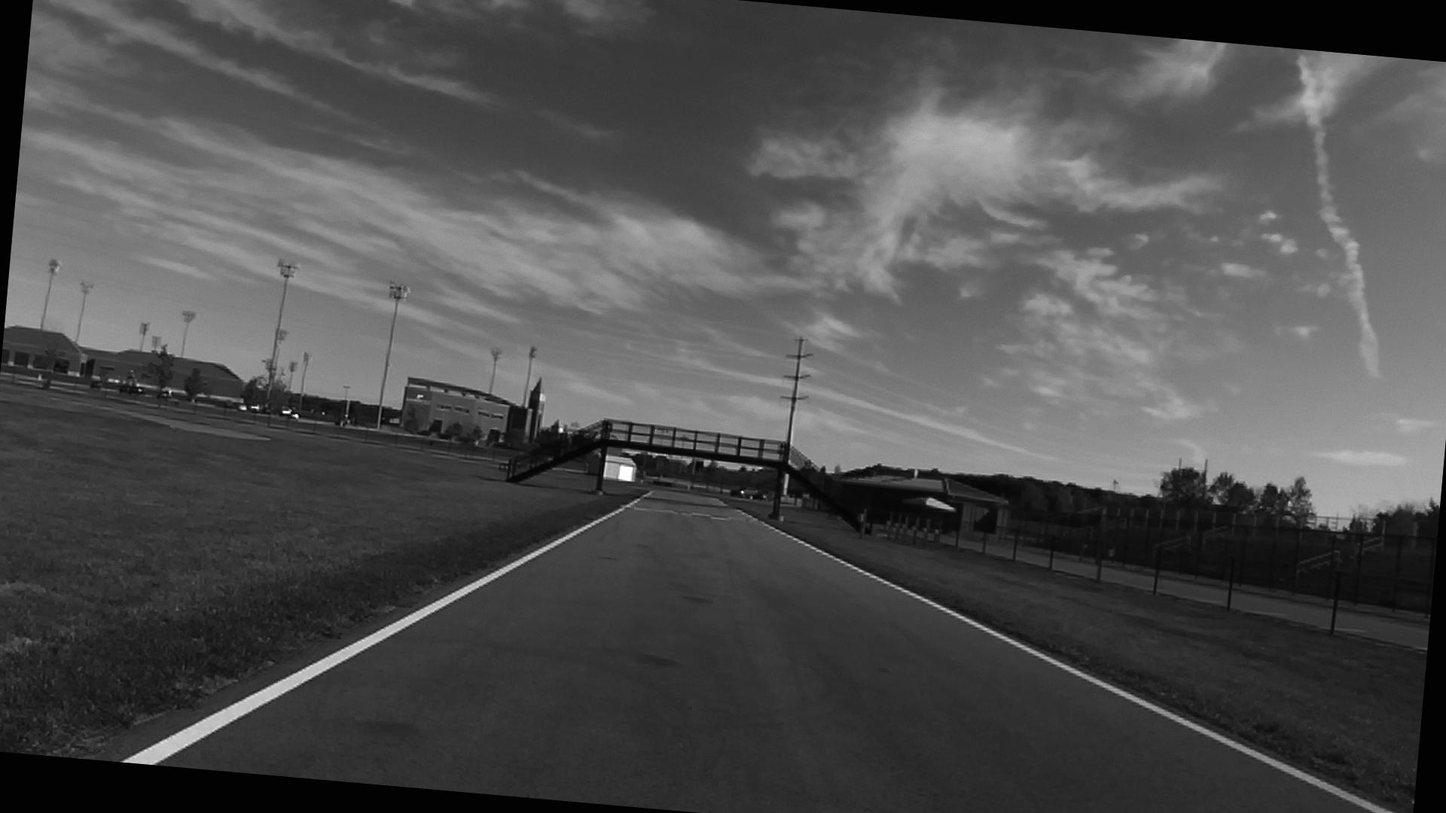white-line: (740, 510, 1398, 813), (120, 504, 631, 765)
